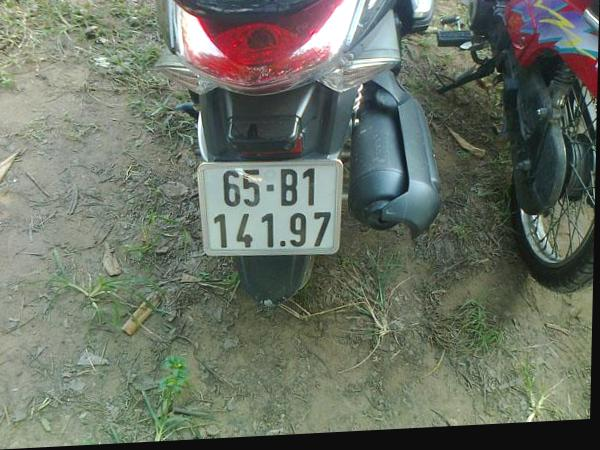License_Plate: (201, 156, 338, 257)
